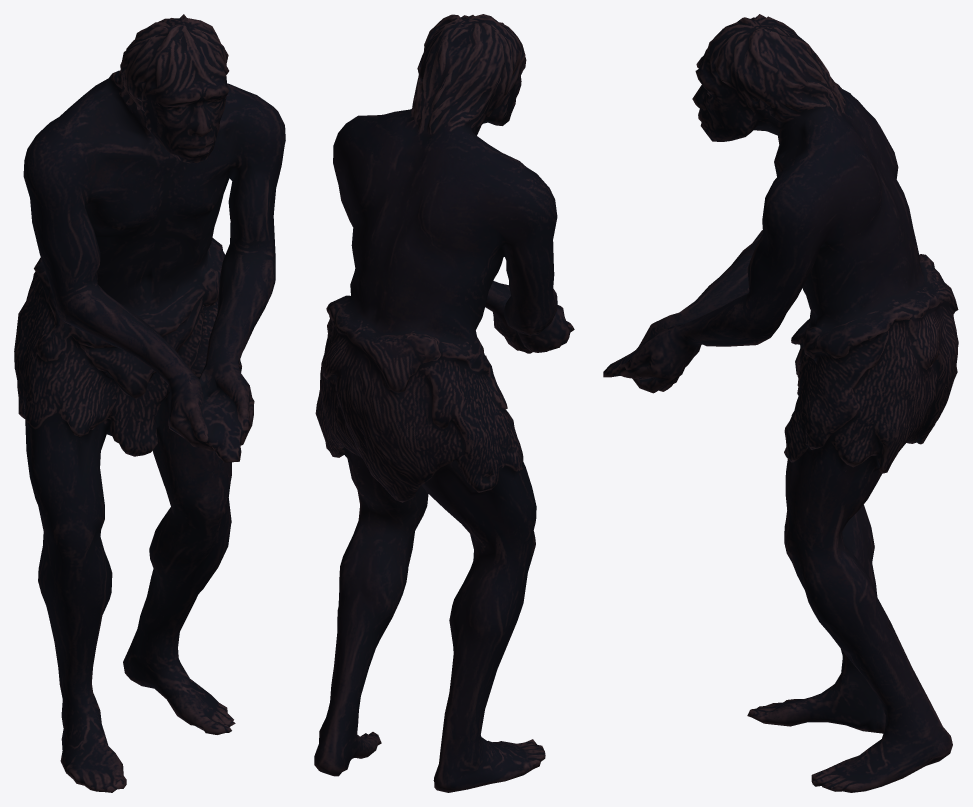
File: homo_heidelbergensis.glb
The picture shows the model from 3 angles, left to right: view 1: azimuth 30°, elevation 25°; view 2: azimuth 150°, elevation 25°; view 3: azimuth 270°, elevation 25°; orthographic projection. The views are drawn at different scales.
Visible parts, largest first — view 1: Homo_Heidelbergensis_Model.003; view 2: Homo_Heidelbergensis_Model.003; view 3: Homo_Heidelbergensis_Model.003.
Part boxes in pixels (bbox=[...]): Homo_Heidelbergensis_Model.003: bbox=[14, 14, 285, 792]; Homo_Heidelbergensis_Model.003: bbox=[314, 14, 574, 792]; Homo_Heidelbergensis_Model.003: bbox=[603, 14, 958, 792].
Bounding box in the file's own units: 1.09 × 3.29 × 1.46.
1 material, 1 textured.
